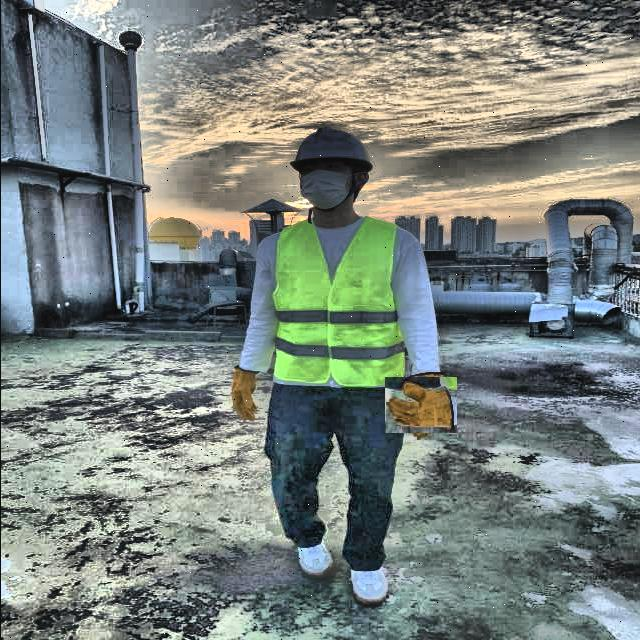gloved: (388, 373, 452, 437), (219, 355, 265, 434)
